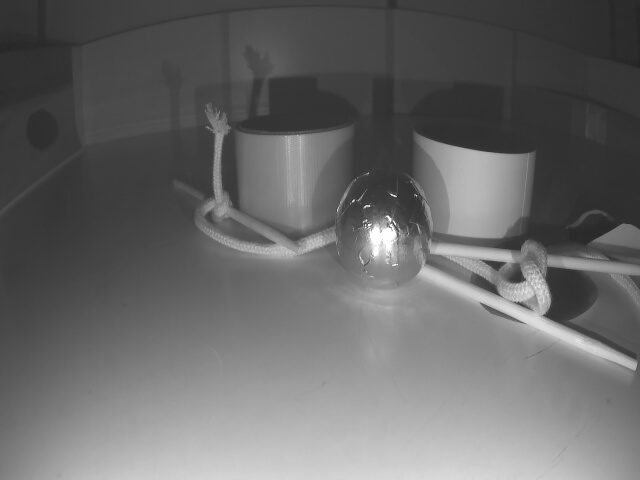Live: (340, 166, 430, 283)
